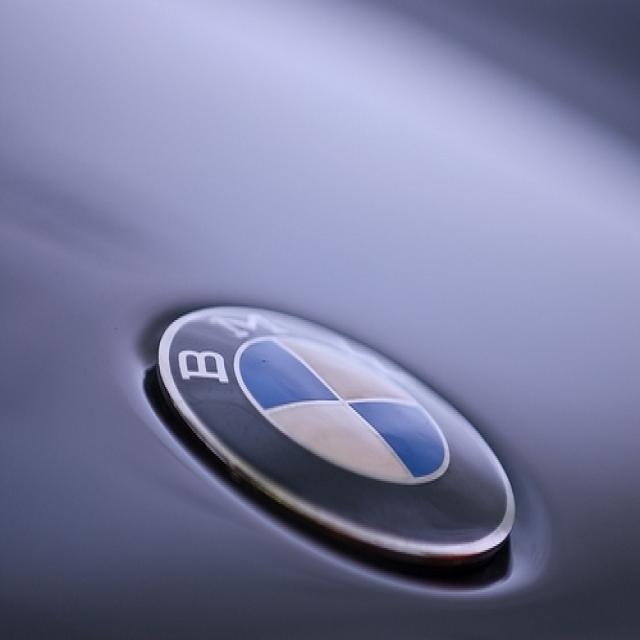bmw: (149, 298, 522, 584)
